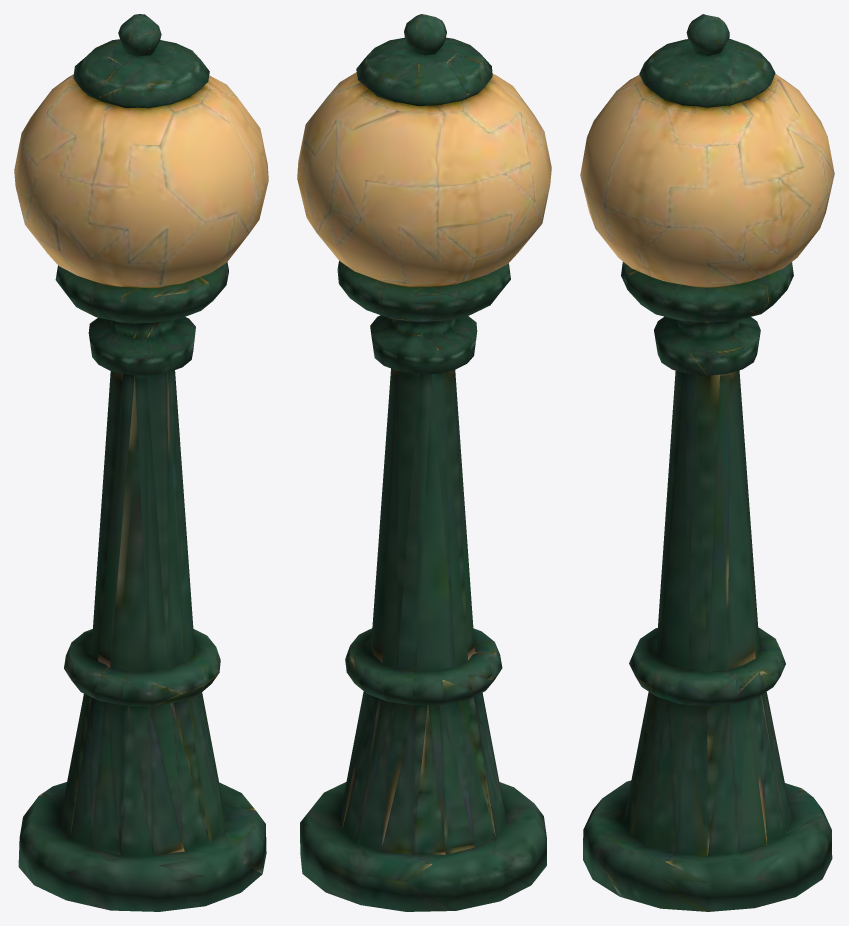
The model's file is lamp.glb.
3 renders of one model, left to right at view 1: azimuth 30°, elevation 25°; view 2: azimuth 150°, elevation 25°; view 3: azimuth 270°, elevation 25°, orthographic.
Visible parts, largest first — view 1: geometry_0; view 2: geometry_0; view 3: geometry_0.
Part boxes in pixels (x1,y1,x2,y2): geometry_0: (14,14,268,911); geometry_0: (297,14,551,911); geometry_0: (580,14,834,911).
Size of the model in its own units: 0.2755 by 0.9992 by 0.2734.
1 material, 1 textured.
